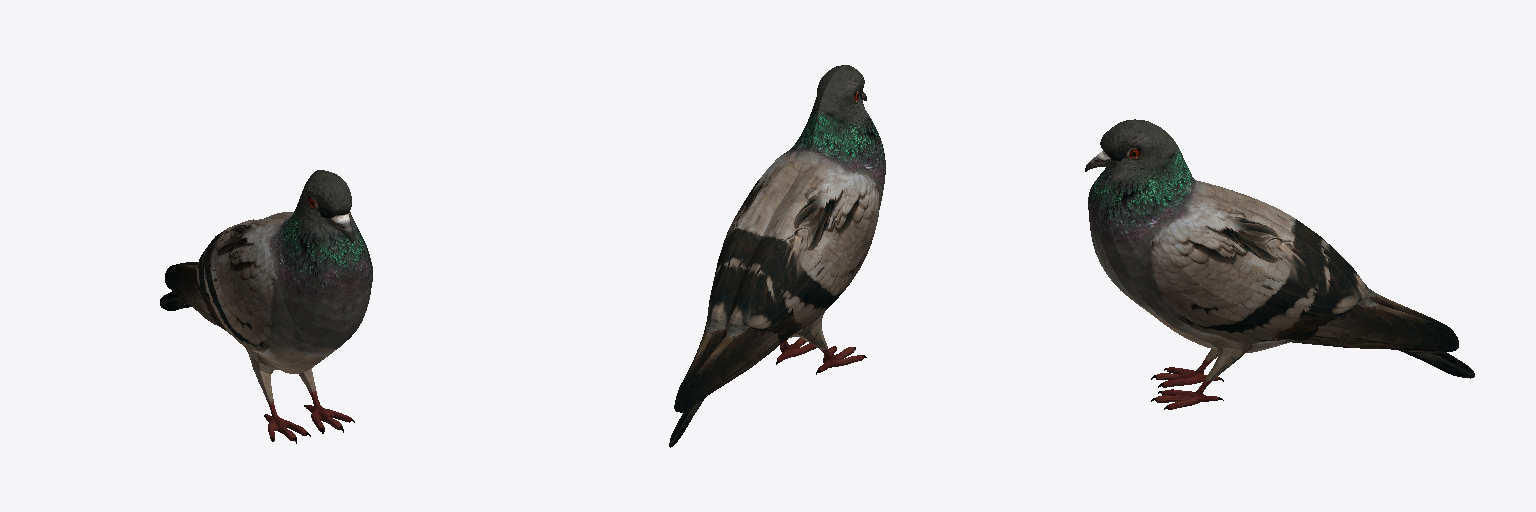
3 renders of one model, left to right at view 1: azimuth 30°, elevation 25°; view 2: azimuth 150°, elevation 25°; view 3: azimuth 270°, elevation 25°, orthographic.
Visible parts, largest first — view 1: gezi; view 2: gezi; view 3: gezi.
Boxes of the visible parts, x1,y1,x2,y2 form: gezi: [160, 170, 372, 443]; gezi: [669, 65, 885, 447]; gezi: [1085, 119, 1474, 409].
Bounding box in the file's own units: 2.48 × 5.96 × 7.77.
Materials: 1 (1 with a texture image).